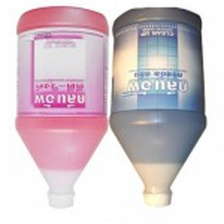insecticide: (105, 3, 208, 210), (11, 4, 112, 211)
